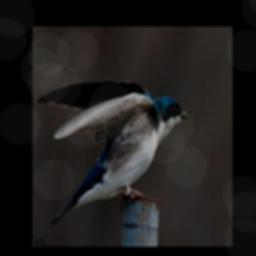Swallow: (37, 77, 189, 228)
